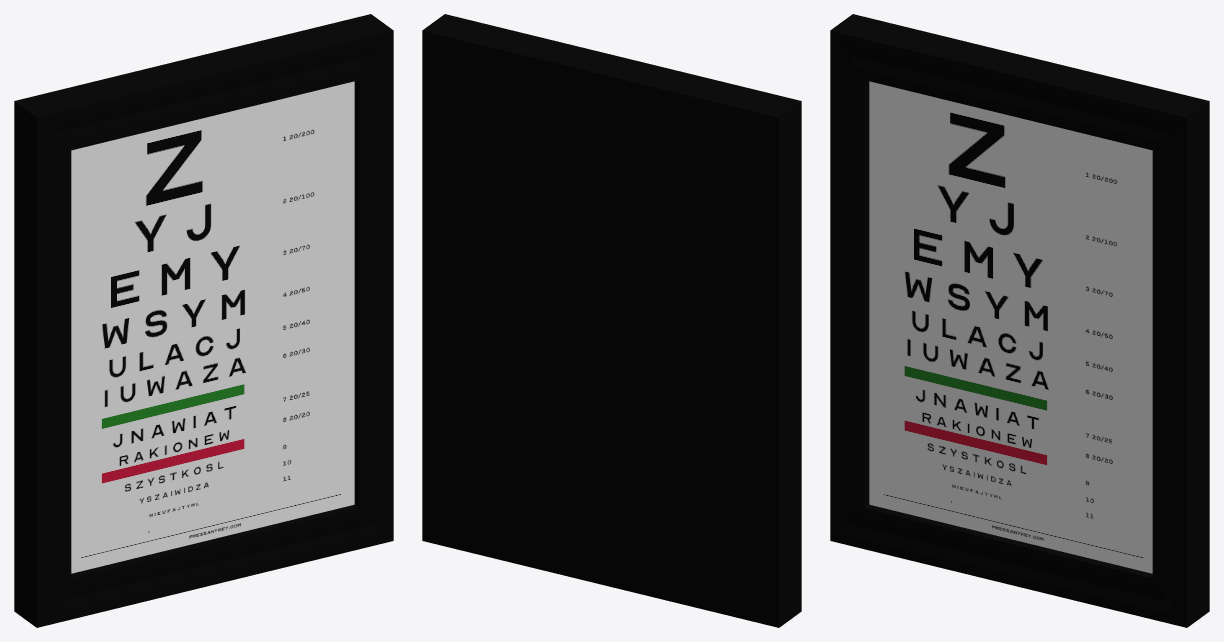
The model's file is EyeChart.obj.
The picture shows the model from 3 angles, left to right: view 1: azimuth 30°, elevation 25°; view 2: azimuth 150°, elevation 25°; view 3: azimuth 330°, elevation 25°; orthographic projection.
Parts seen in each view (by area): view 1: Cube_Cube.002; view 2: Cube_Cube.002; view 3: Cube_Cube.002.
Part boxes in pixels (box(x1,y1,x2,y2)): Cube_Cube.002: box(14, 14, 393, 627); Cube_Cube.002: box(422, 14, 801, 627); Cube_Cube.002: box(830, 14, 1209, 627).
Size of the model in its own units: 1.75 by 2.4 by 0.1934.
